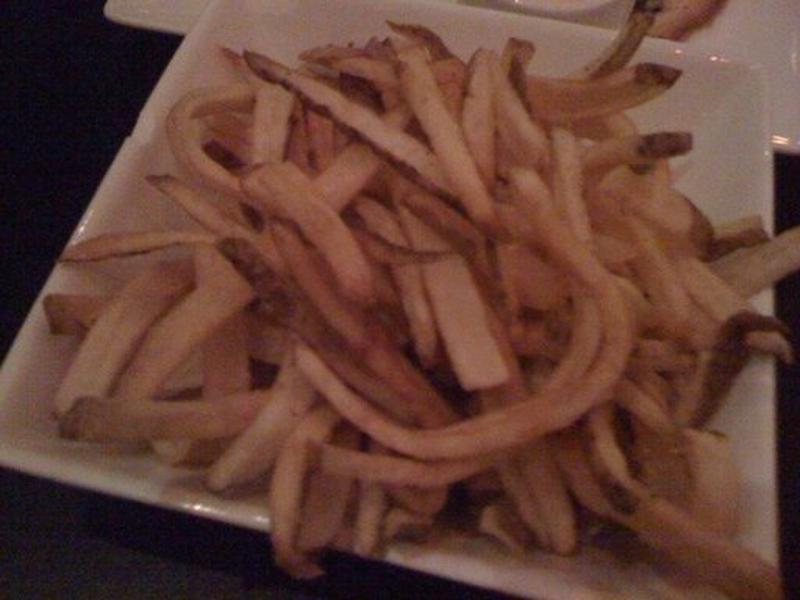french_fries: (38, 8, 785, 568)
